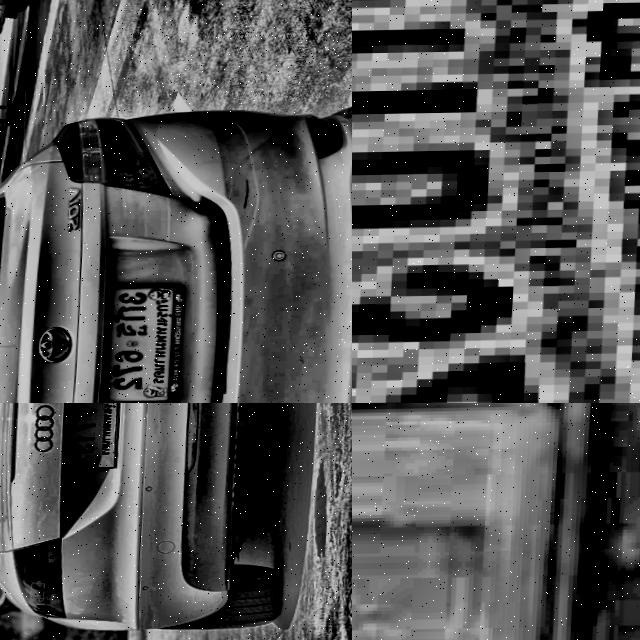license-plate: (352, 0, 640, 403), (352, 403, 570, 640), (97, 281, 194, 403), (64, 403, 129, 471)
